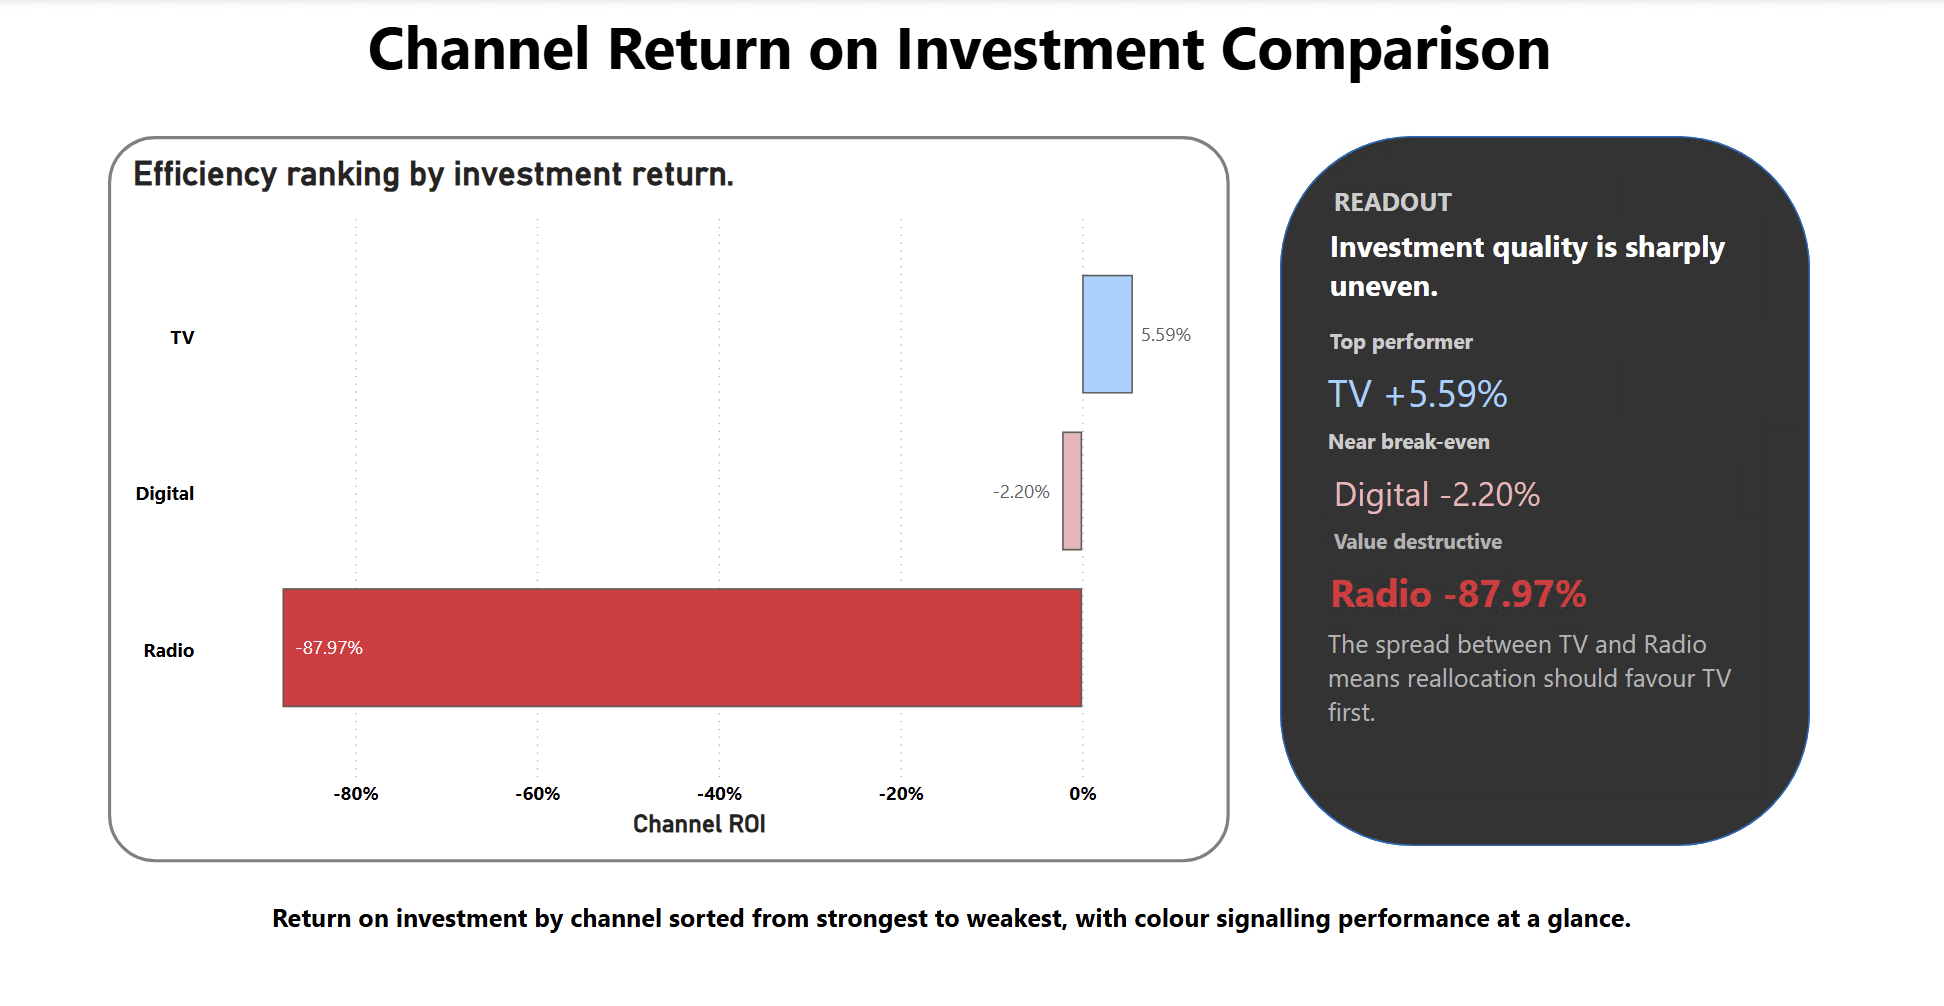

The dashboard page shown, as its layout file describes it:
{"tool":"powerbi","page":{"name":"Channel ROI","canvas":[1280,720],"ordinal":1},"visuals":[{"type":"textbox","box":[269,0,779,82.9],"z":0},{"type":"clusteredBarChart","title":"Efficiency ranking by investment return.","fields":{"Category":["roi_by_channel_powerbi.channel"],"Y":["roi_by_channel_powerbi.Channel ROI"]},"box":[108.4,88,715.2,462.8],"z":1000},{"type":"shape","box":[855.5,88,337.8,452.6],"z":2000},{"type":"textbox","box":[884.8,113.5,187.4,44.6],"z":3000},{"type":"textbox","box":[882.2,140.2,281.8,80.3],"z":4000},{"type":"textbox","box":[882.2,204,303.4,72.7],"z":5000},{"type":"textbox","box":[881,229.5,192.5,113.5],"z":6000},{"type":"textbox","box":[881,267.7,284.3,59.9],"z":7000},{"type":"textbox","box":[884.8,295.8,265.2,105.8],"z":8000},{"type":"textbox","box":[884.8,331.5,280.5,38.2],"z":9000},{"type":"textbox","box":[882.2,357,281.8,84.1],"z":10000},{"type":"textbox","box":[881,395.2,284.3,114.7],"z":11000},{"type":"textbox","box":[207.4,570.2,881.3,43.8],"z":12000}]}

Visuals, with their boxes on the page's 1280x720 design canvas (x1, y1, x2, y2). These are canvas units, not pixel positions in the 1944x1006 screenshot, which may show the page scaled, cropped or inside an application window:
textbox: bbox=(269, 0, 1048, 83)
"Efficiency ranking by investment return." clusteredBarChart: bbox=(108, 88, 824, 551)
shape: bbox=(856, 88, 1193, 541)
textbox: bbox=(885, 114, 1072, 158)
textbox: bbox=(882, 140, 1164, 220)
textbox: bbox=(882, 204, 1186, 277)
textbox: bbox=(881, 230, 1074, 343)
textbox: bbox=(881, 268, 1165, 328)
textbox: bbox=(885, 296, 1150, 402)
textbox: bbox=(885, 332, 1165, 370)
textbox: bbox=(882, 357, 1164, 441)
textbox: bbox=(881, 395, 1165, 510)
textbox: bbox=(207, 570, 1089, 614)
